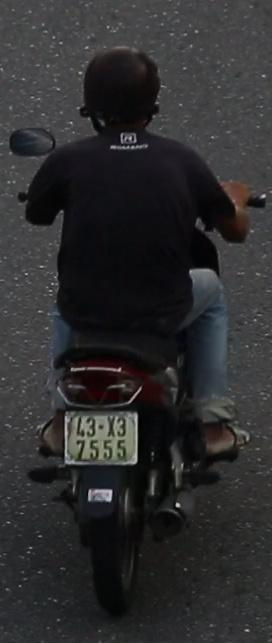LP: (60, 405, 141, 470)
helmet: (79, 39, 164, 146)
